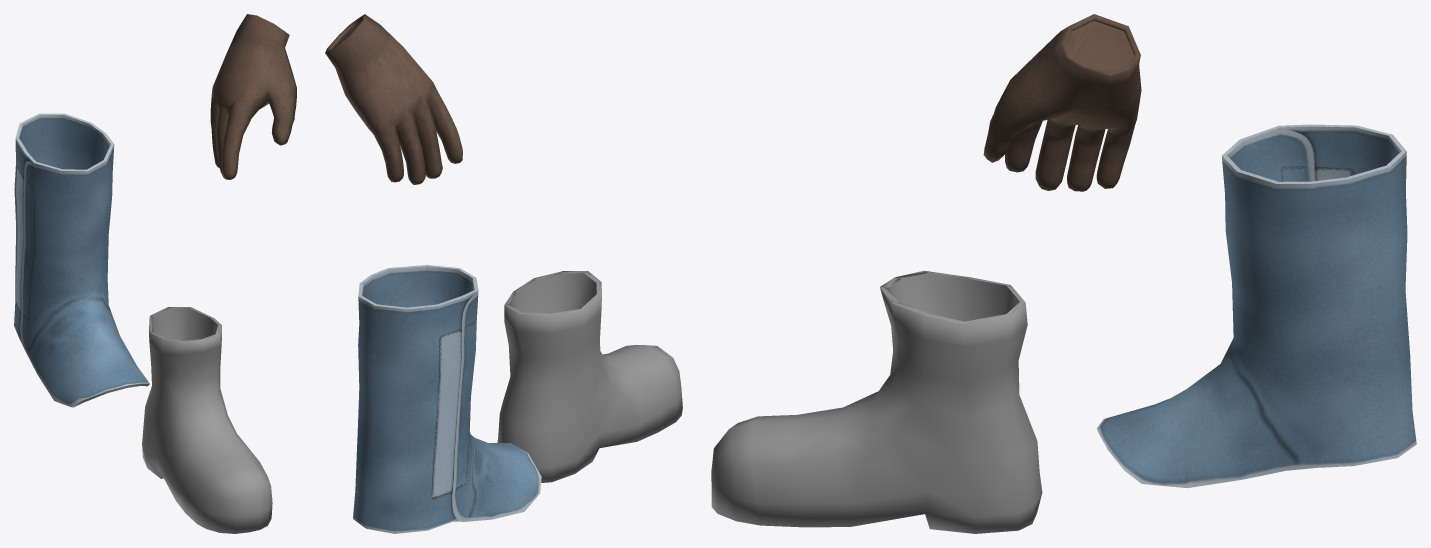
Rendered from Meta_Equipment.FBX.
The picture shows the model from 3 angles, left to right: view 1: azimuth 30°, elevation 25°; view 2: azimuth 150°, elevation 25°; view 3: azimuth 270°, elevation 25°; orthographic projection. The views are drawn at different scales.
Parts seen in each view (by area): view 1: Gaiter, Safety Shoes, Leather Gloves; view 2: Gaiter, Safety Shoes, Leather Gloves; view 3: Gaiter, Safety Shoes, Leather Gloves.
Boxes of the visible parts, box(x1,y1,x2,y2) form: Gaiter: box(14, 113, 149, 407); Safety Shoes: box(142, 307, 272, 533); Leather Gloves: box(210, 14, 296, 179); Gaiter: box(353, 265, 541, 533); Safety Shoes: box(497, 271, 682, 482); Leather Gloves: box(325, 14, 462, 184); Gaiter: box(1096, 124, 1416, 488); Safety Shoes: box(711, 270, 1042, 533); Leather Gloves: box(983, 14, 1141, 191).
Size of the model in its own units: 33.45 by 68.69 by 62.76.
